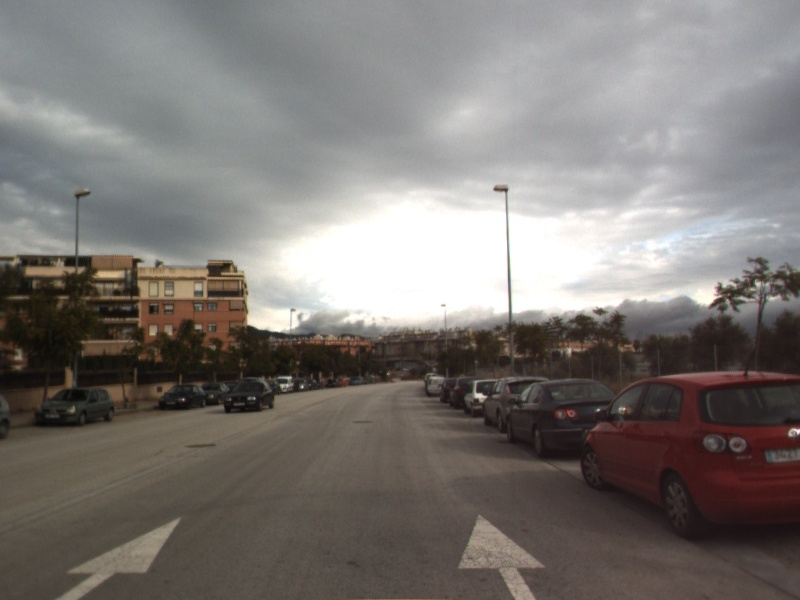STRAIGHT: (52, 515, 185, 600), (455, 512, 548, 600)
